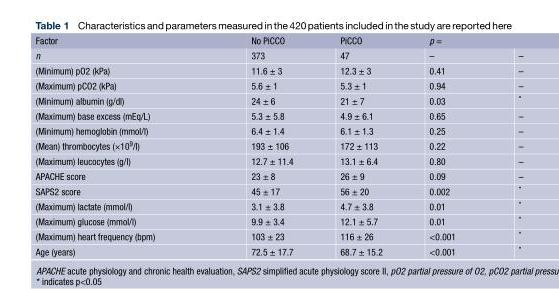table: (34, 34, 522, 256)
table column: (34, 34, 202, 256), (202, 34, 316, 256), (316, 34, 405, 256), (405, 34, 486, 256), (486, 34, 522, 256)
table column header: (34, 34, 522, 47)
table row: (34, 152, 522, 168), (34, 47, 522, 62), (34, 62, 522, 77), (34, 77, 522, 92), (34, 92, 522, 107), (34, 107, 522, 122), (34, 122, 522, 137), (34, 137, 522, 152), (34, 182, 522, 197), (34, 197, 522, 212), (34, 212, 522, 227), (34, 227, 522, 242), (34, 168, 522, 182), (34, 242, 522, 256), (34, 34, 522, 47)
